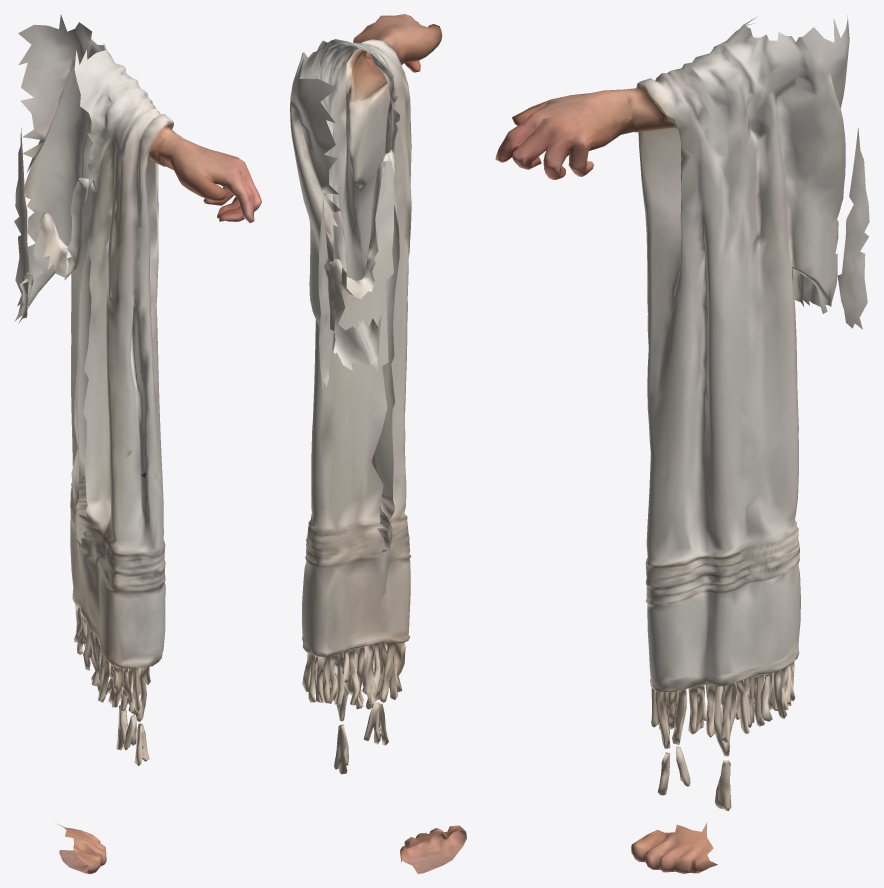
File: crowd_pregnant_woman_child_repaired.glb
The picture shows the model from 3 angles, left to right: view 1: azimuth 30°, elevation 25°; view 2: azimuth 150°, elevation 25°; view 3: azimuth 270°, elevation 25°; orthographic projection. The views are drawn at different scales.
Parts seen in each view (by area): view 1: crowd_pregnant_woman_child; view 2: crowd_pregnant_woman_child; view 3: crowd_pregnant_woman_child.
Boxes of the visible parts, x1,y1,x2,y2 form: crowd_pregnant_woman_child: (14, 15, 261, 873); crowd_pregnant_woman_child: (290, 14, 466, 873); crowd_pregnant_woman_child: (495, 15, 869, 873).
Size of the model in its own units: 0.225 by 1.25 by 0.4834.
Materials: 1 (1 with a texture image).
